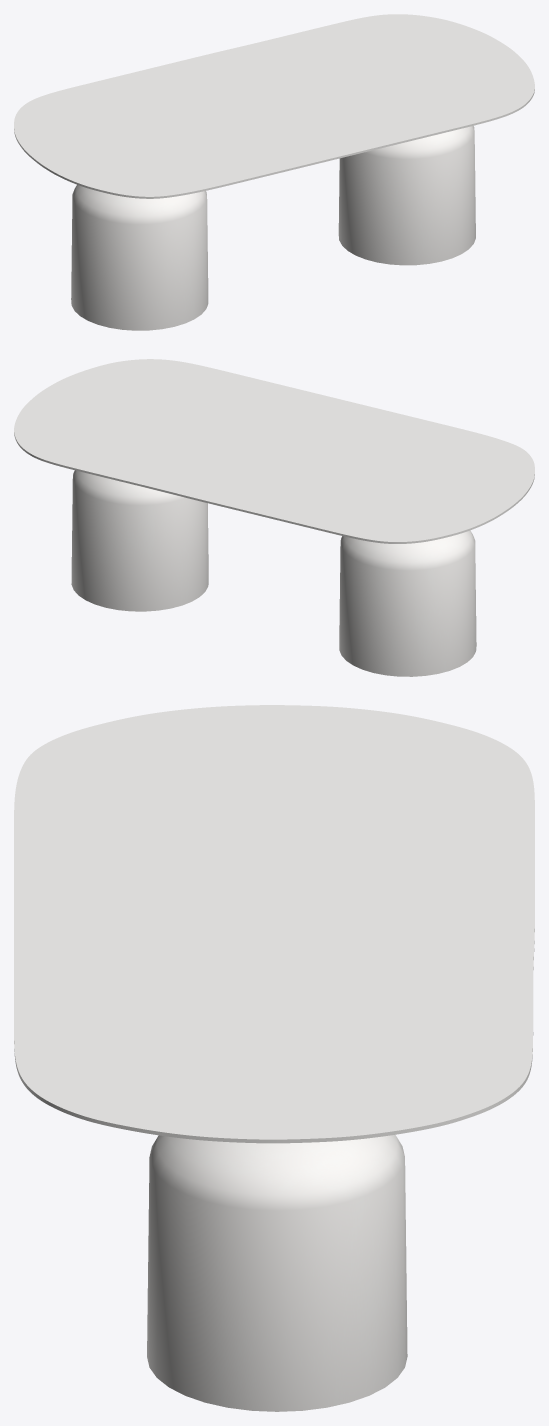
Rendered from purewhite_oval_facet_tornado.glb.
3 renders of one model, top to bottom at view 1: azimuth 30°, elevation 25°; view 2: azimuth 150°, elevation 25°; view 3: azimuth 270°, elevation 25°, orthographic. The views are drawn at different scales.
Visible parts, largest first — view 1: facet_oval, tornado; view 2: facet_oval, tornado; view 3: facet_oval, tornado.
Boxes of the visible parts, <box> form: facet_oval: <box>14,14,534,198</box>; tornado: <box>71,126,475,330</box>; facet_oval: <box>14,359,534,543</box>; tornado: <box>71,470,476,676</box>; facet_oval: <box>14,705,534,1143</box>; tornado: <box>147,1134,407,1411</box>.
Size of the model in its own units: 7.5 by 2.5 by 3.8.
1 material, 1 textured.
